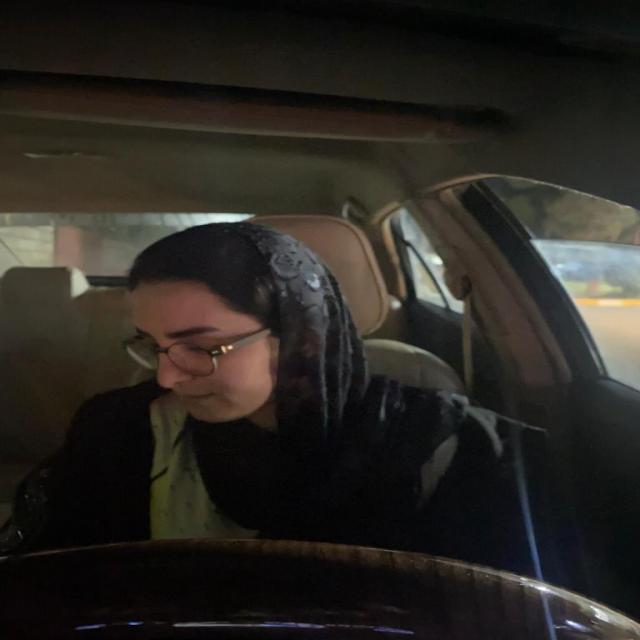drowsy: (111, 213, 347, 438)
